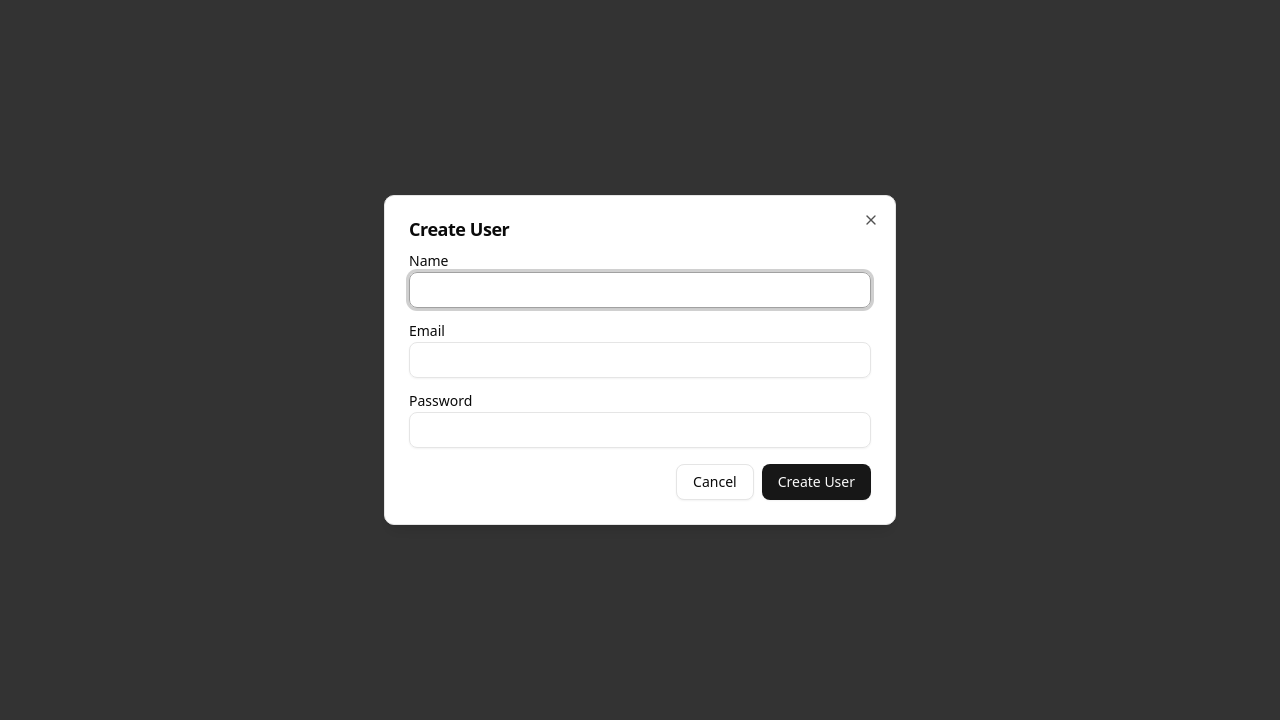
CreateUserModal › disables the submit button and shows 'Creating...' while submitting
Type "Alice Admin" into the field labelled "Name" at [640, 290], box [409,272,871,308]
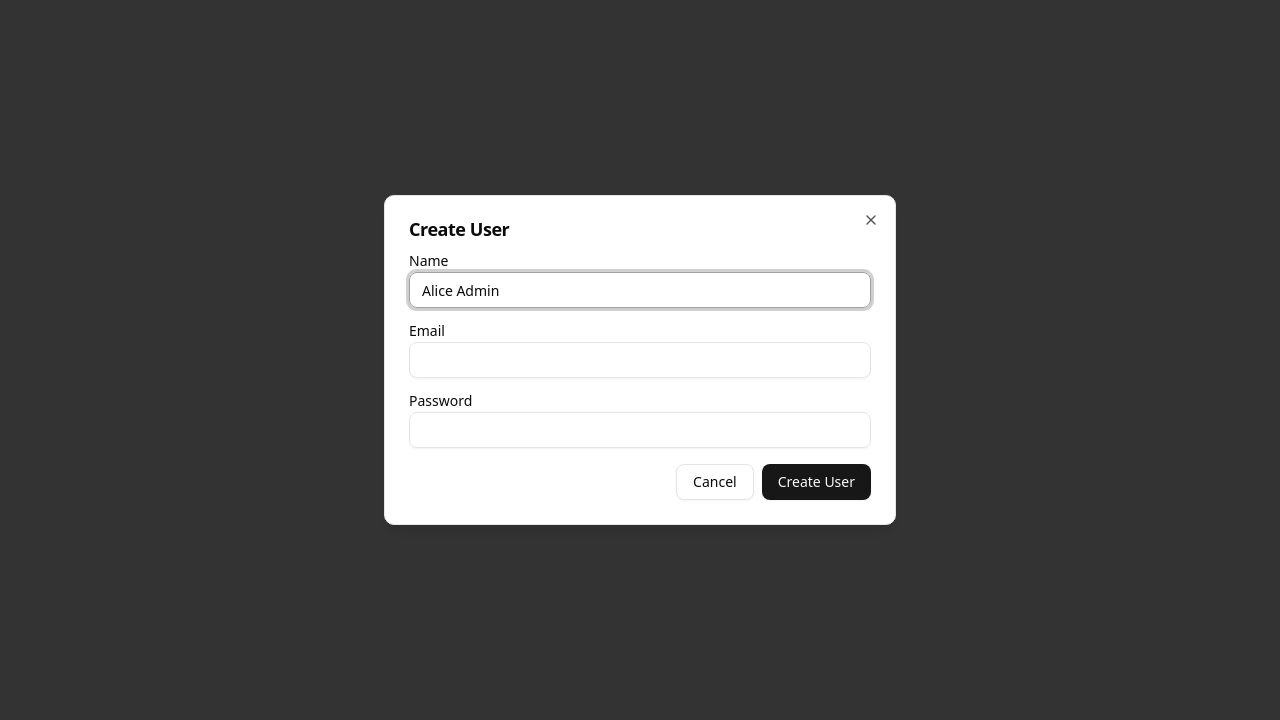
Type "alice@example.com" into the field labelled "Email" at [640, 360], box [409,342,871,378]
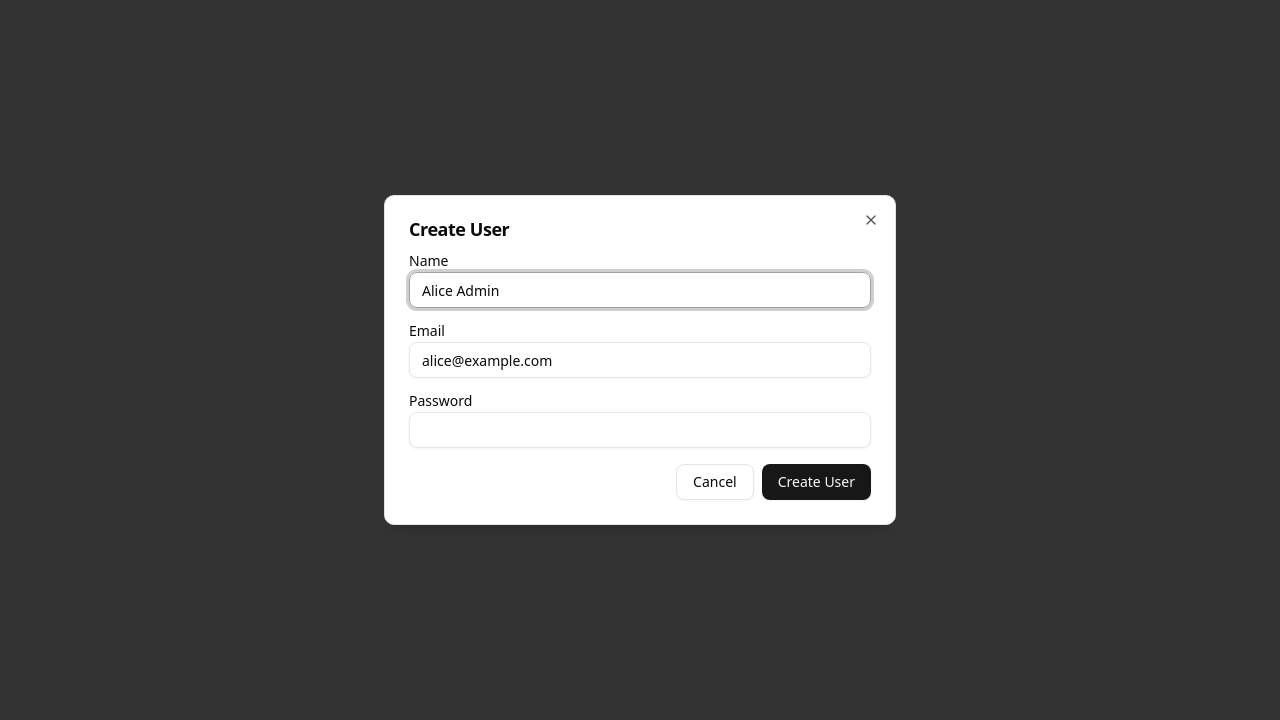
Type "password123" into the password field labelled "Password" at [640, 430], box [409,412,871,448]
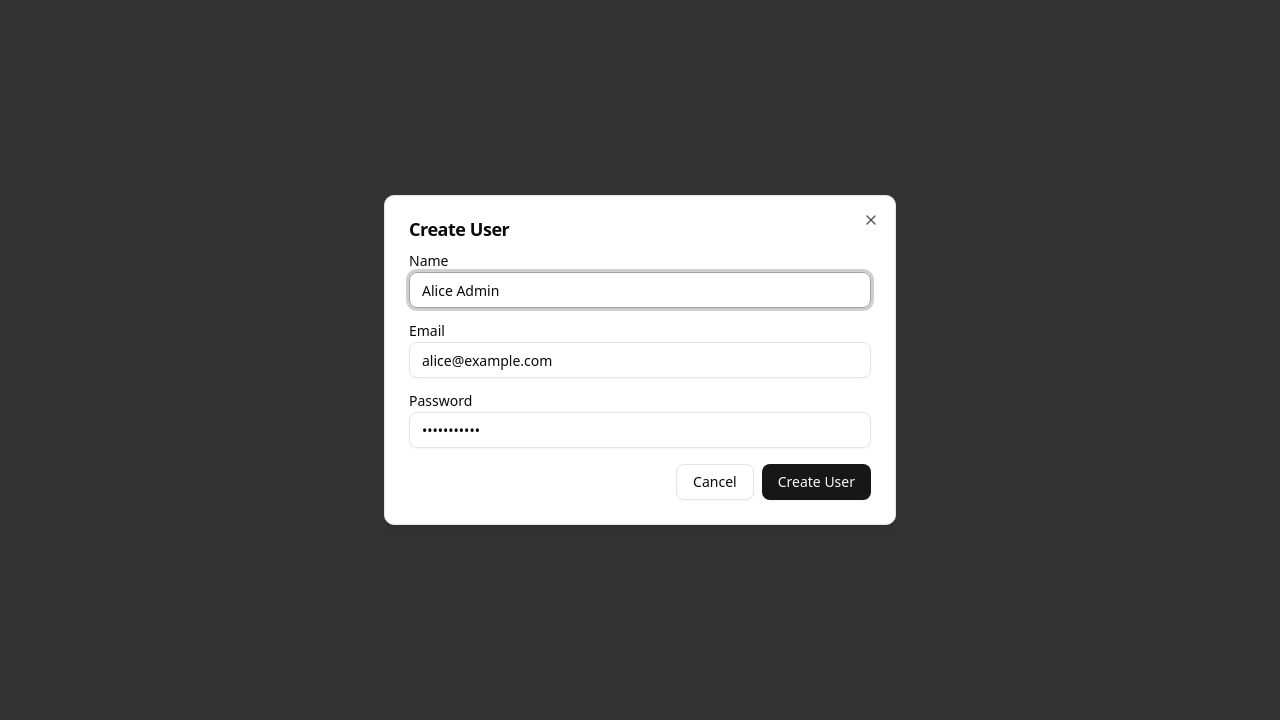
Click the button "Create User" at [816, 482], box [762,464,871,500]
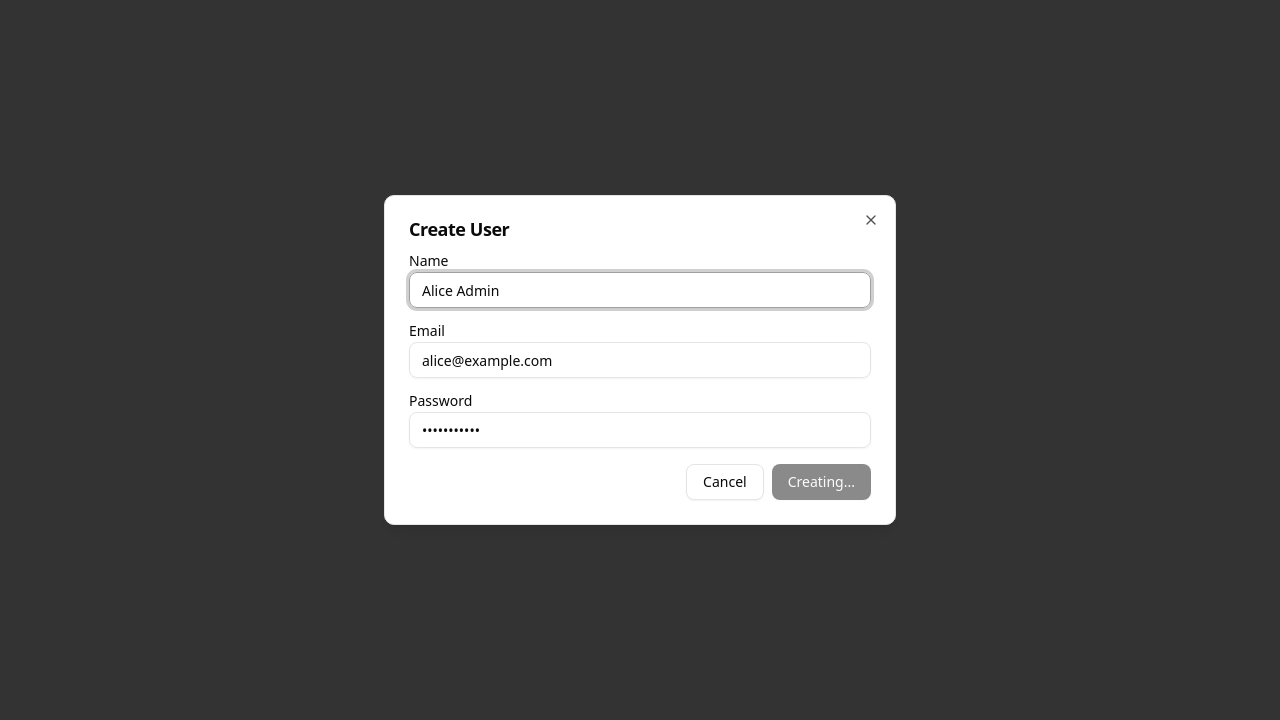
Check: the button "Creating..." is disabled, box [772,464,871,500]
